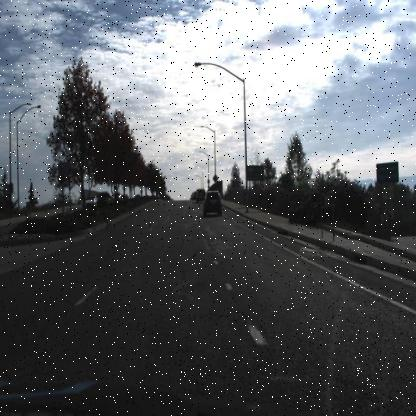car: (202, 190, 224, 216), (83, 195, 98, 211), (196, 188, 207, 202), (192, 192, 200, 203)
